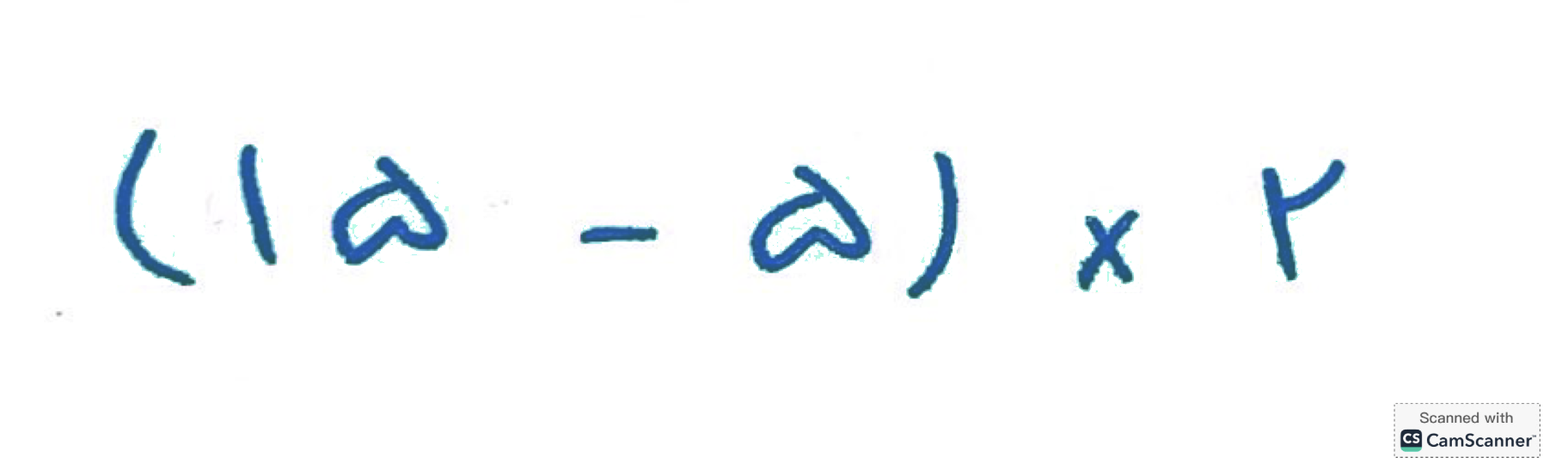character: (1293, 84, 1414, 224), (237, 117, 366, 246), (106, 126, 204, 286), (643, 102, 740, 233), (1155, 109, 1246, 239), (789, 93, 854, 253), (953, 173, 1038, 266), (1494, 148, 1559, 233), (481, 197, 568, 219)
